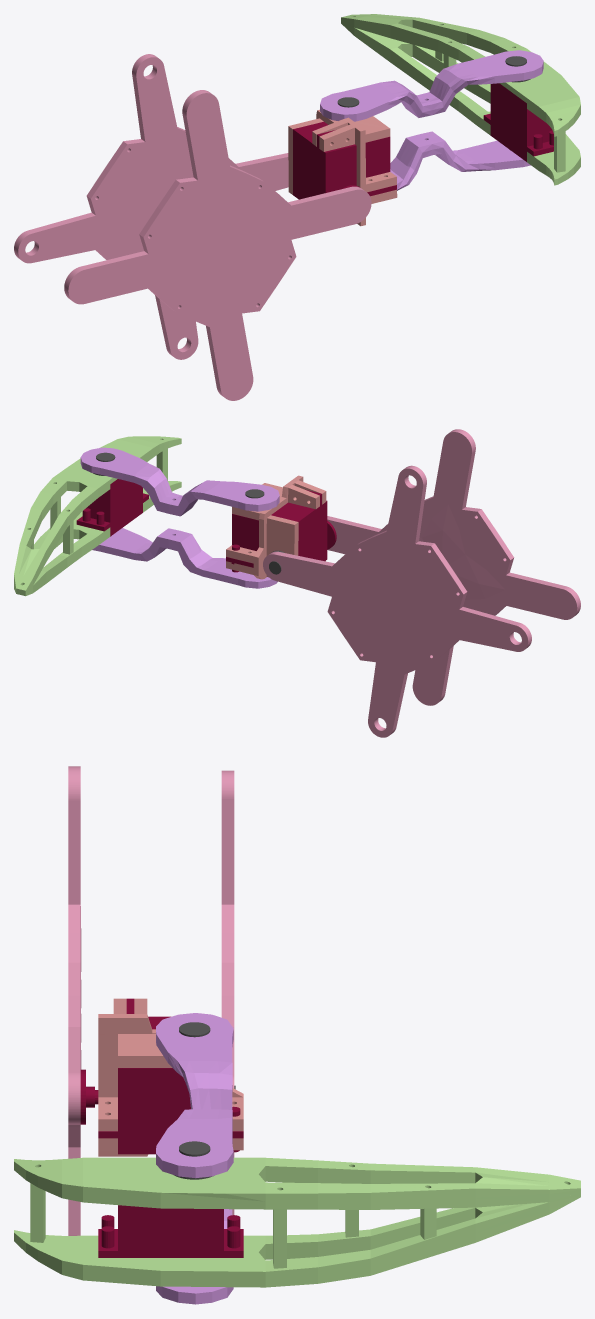
The model's file is All.obj.
3 views of the same model, one above another, from view 1: azimuth 30°, elevation 25°; view 2: azimuth 150°, elevation 25°; view 3: azimuth 270°, elevation 25° (orthographic). The views are drawn at different scales.
Parts seen in each view (by area): view 1: Object.44, Object.46, Object.45, Object.39, Object.1, Object.40, Object.16, Object.28, Object.2, Object.17; view 2: Object.46, Object.44, Object.45, Object.39, Object.16, Object.40, Object.1, Object.2, Object.28, Object.17; view 3: Object.45, Object.1, Object.39, Object.2, Object.40, Object.44, Object.17, Object.46, Object.16.
Boxes of the visible parts, box(x1,y1,x2,y2) form: Object.44: box(64, 90, 371, 400); Object.46: box(14, 54, 288, 359); Object.45: box(341, 14, 580, 136); Object.39: box(320, 50, 543, 121); Object.1: box(341, 20, 580, 185); Object.40: box(288, 109, 397, 226); Object.16: box(390, 131, 530, 190); Object.28: box(293, 121, 356, 199); Object.2: box(483, 83, 553, 161); Object.17: box(365, 136, 396, 196); Object.46: box(263, 465, 531, 737); Object.44: box(327, 429, 580, 705); Object.45: box(14, 436, 181, 593); Object.39: box(80, 447, 279, 516); Object.16: box(92, 528, 277, 588); Object.40: box(226, 475, 326, 579); Object.1: box(14, 448, 181, 596); Object.2: box(76, 479, 148, 536); Object.28: box(271, 489, 327, 561); Object.17: box(226, 514, 258, 567); Object.45: box(14, 1157, 580, 1209); Object.1: box(14, 1183, 580, 1287); Object.39: box(156, 1013, 233, 1178); Object.2: box(98, 1205, 243, 1257); Object.40: box(98, 998, 243, 1156); Object.44: box(68, 766, 81, 1235); Object.17: box(98, 1068, 243, 1154); Object.46: box(221, 770, 234, 1215); Object.16: box(156, 1209, 233, 1304).
Bounding box in the file's own units: 338 × 193 × 216.
